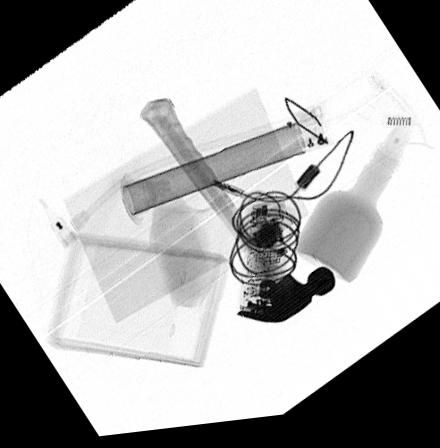Hammer: (137, 103, 334, 331)
